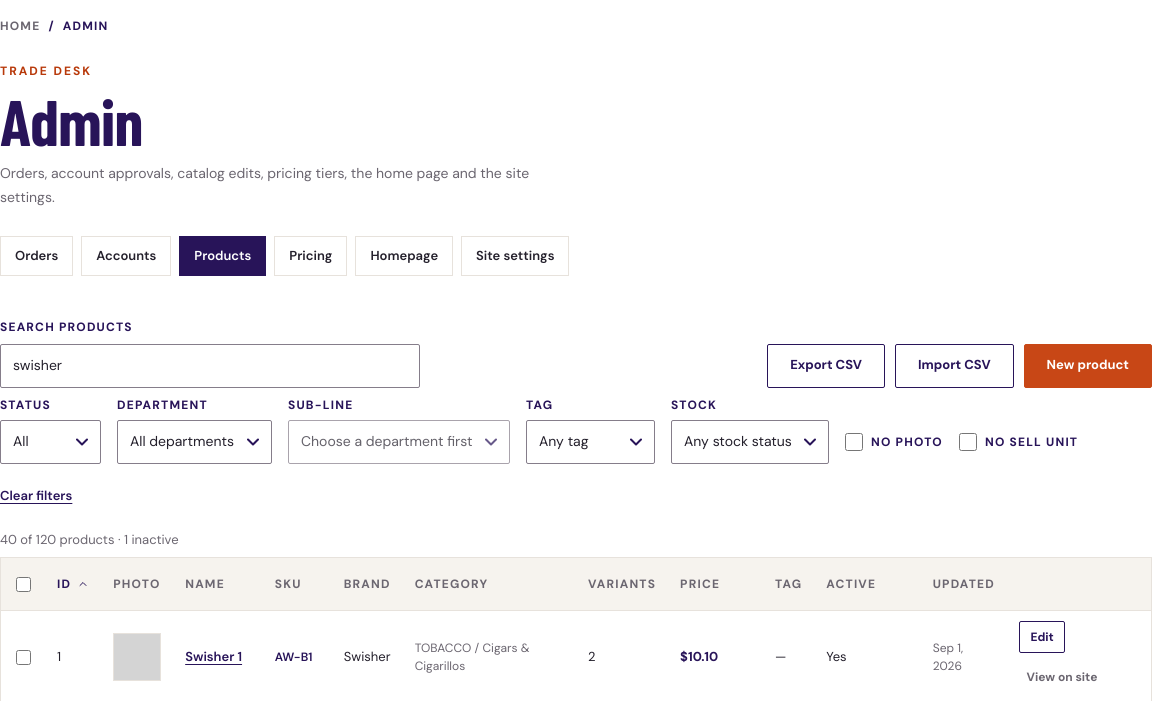
Test: bulk updates (AW-114) › sets the tag of the selection in one checked update, after a confirmation with the count, and patches the rows
Step 1. Click the checkbox named "Select all 40 filtered" in the row of "SKU" → x=23, y=584, box [16,577,30,592]
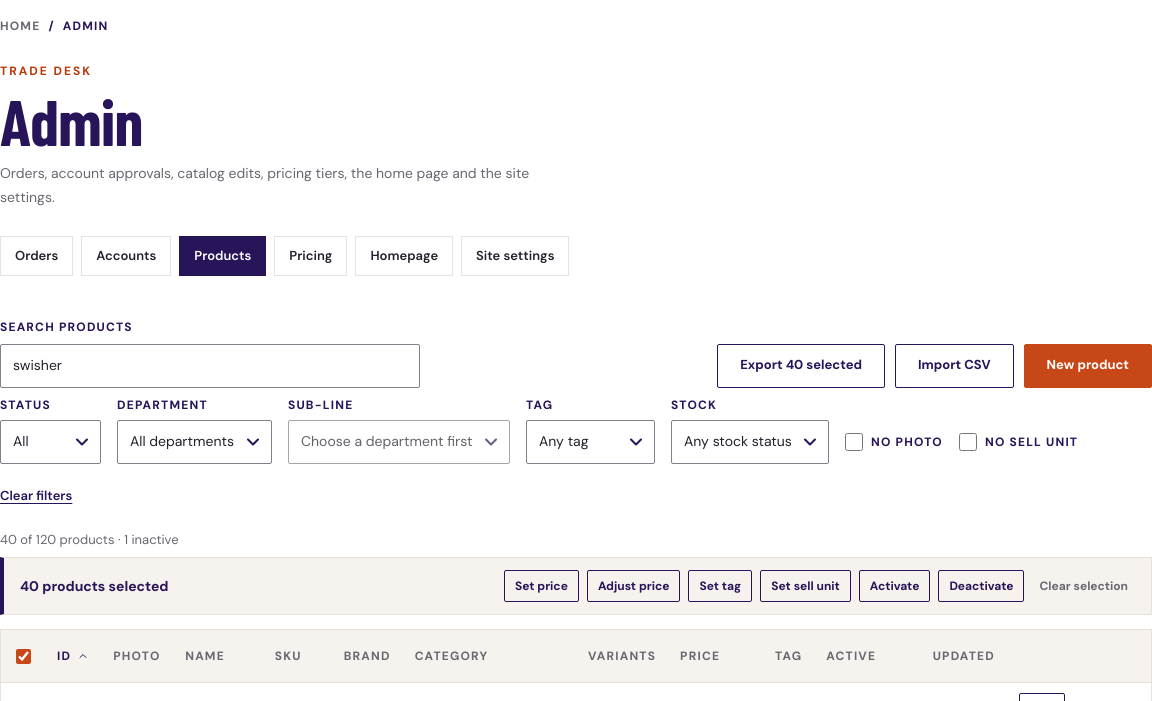
Step 2. Click the button "Set tag" → x=720, y=586, box [688,570,752,602]
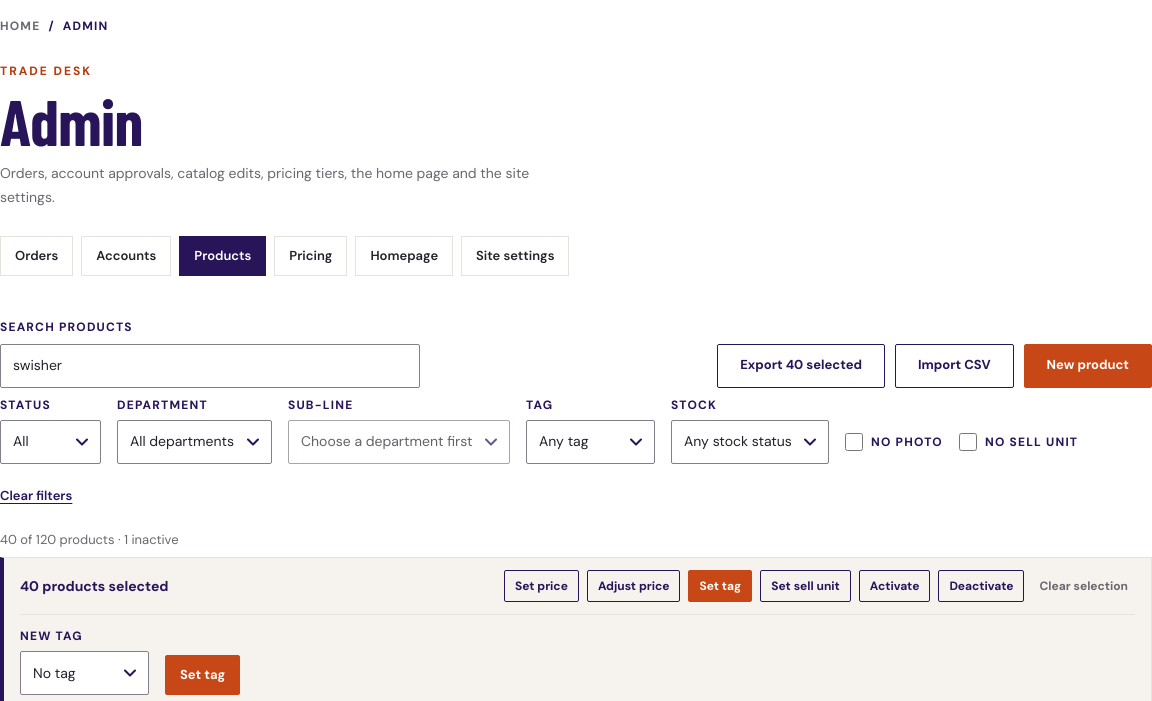
expect the button "Set tag" in the row of "40 products selected" is shown: met, box [688,570,752,602]
Step 3. Select "DEAL" in the dropdown labelled "New tag" → x=84, y=673, box [20,651,149,695]
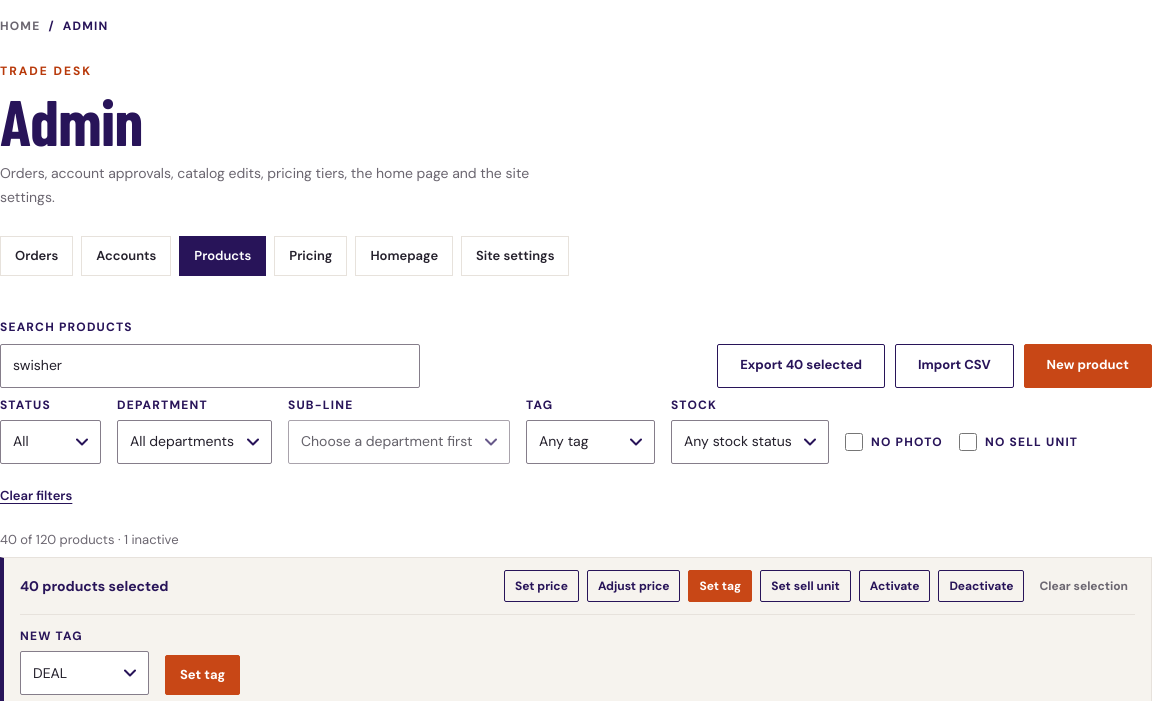
Step 4. Submit the form, box [20,614,1135,695]
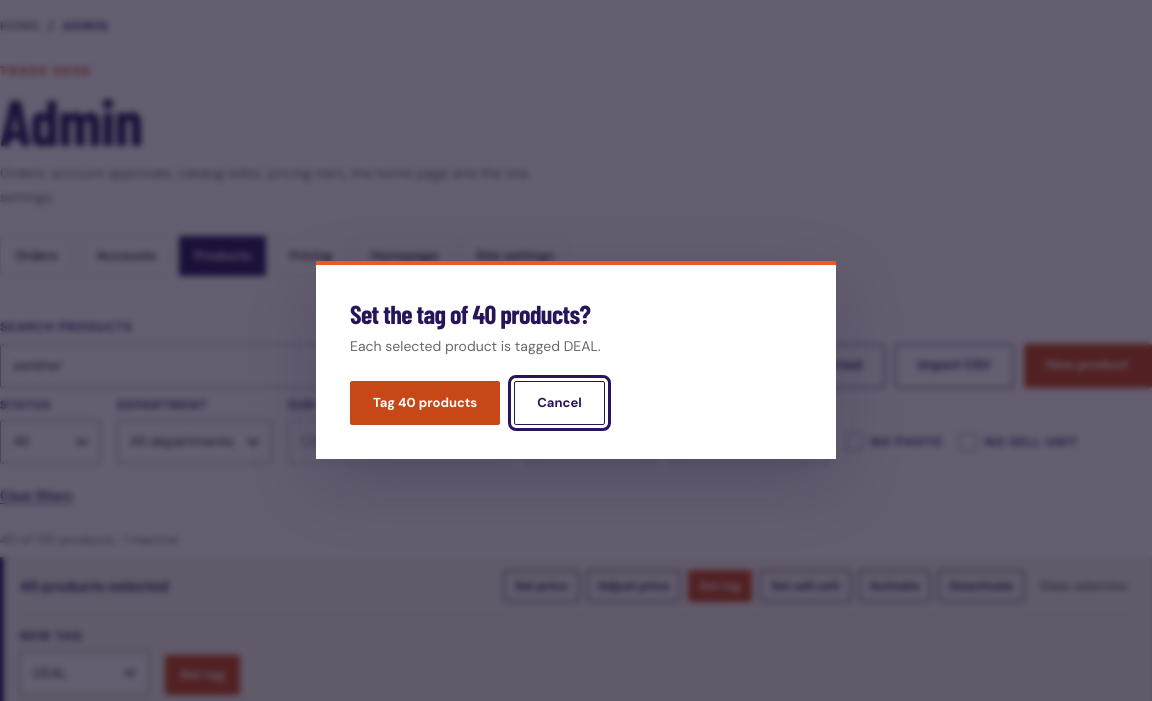
expect the heading reads "Set the tag of 40 products?": met, box [350,298,590,329]
Step 5. Click the button "Tag 40 products" → x=425, y=403, box [350,381,500,425]
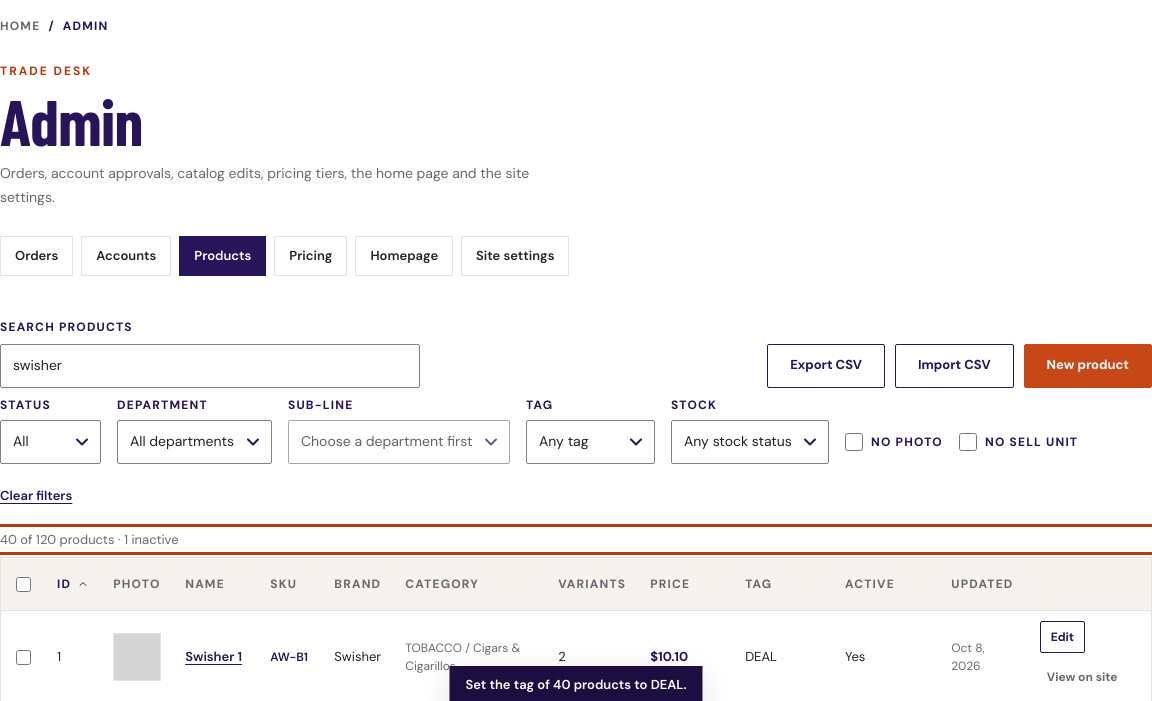
expect the message with class "admin-status-text" reads "Set the tag of 40 products to DEAL.": met, box [466,676,686,693]
expect the cell "DEAL" in the row of "Swisher 1" is shown: met, box [745,648,777,665]
